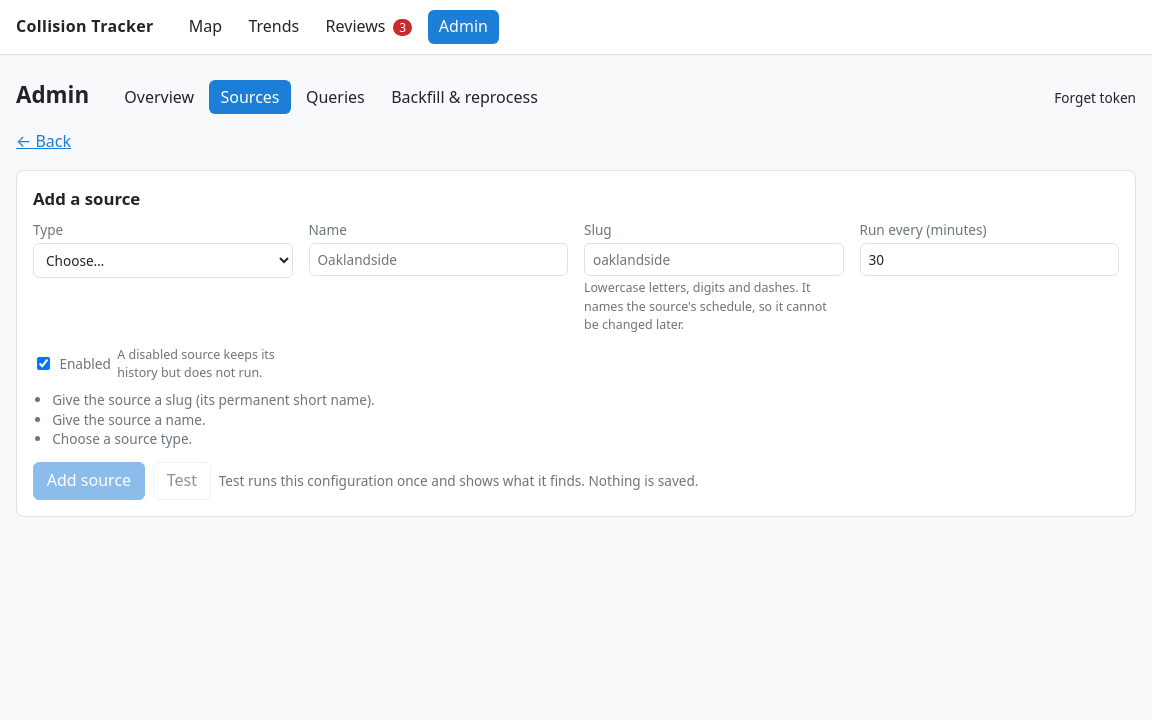
Test: Source form › creates the source and goes to its page
Select "RSS feed" in the dropdown labelled "Type". click: (163, 260)
box: [33, 243, 292, 278]
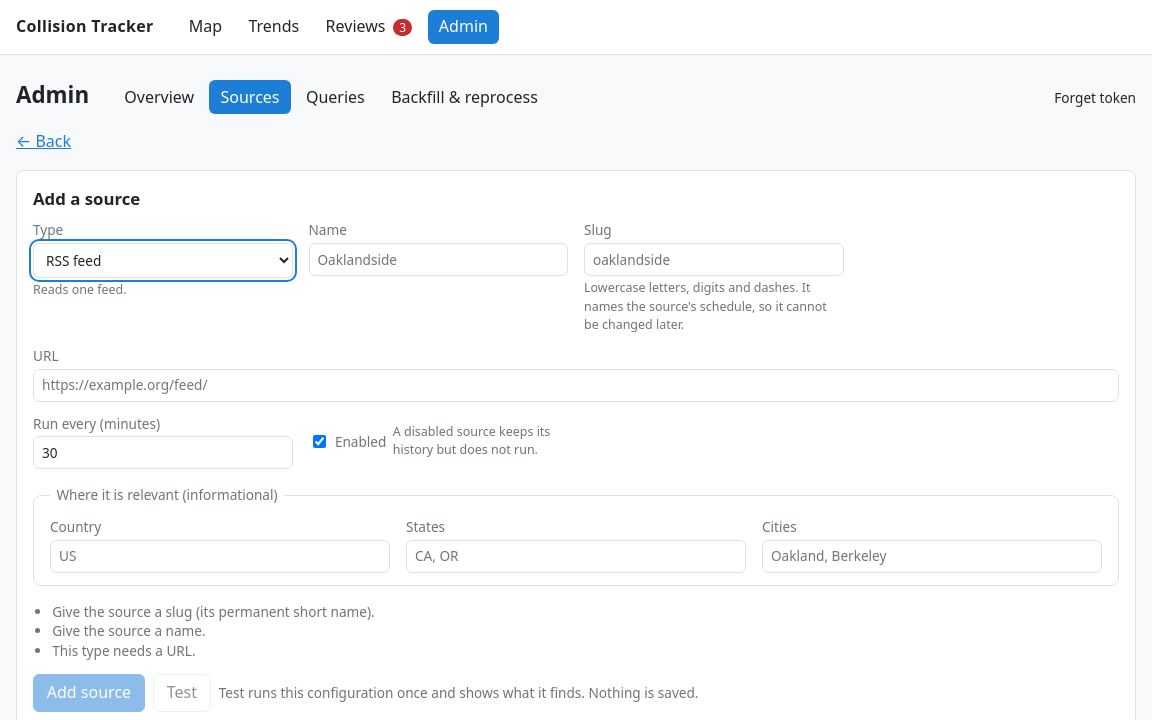
Type "Test Feed" into the field labelled "Name". click: (438, 260)
box: [308, 243, 568, 276]
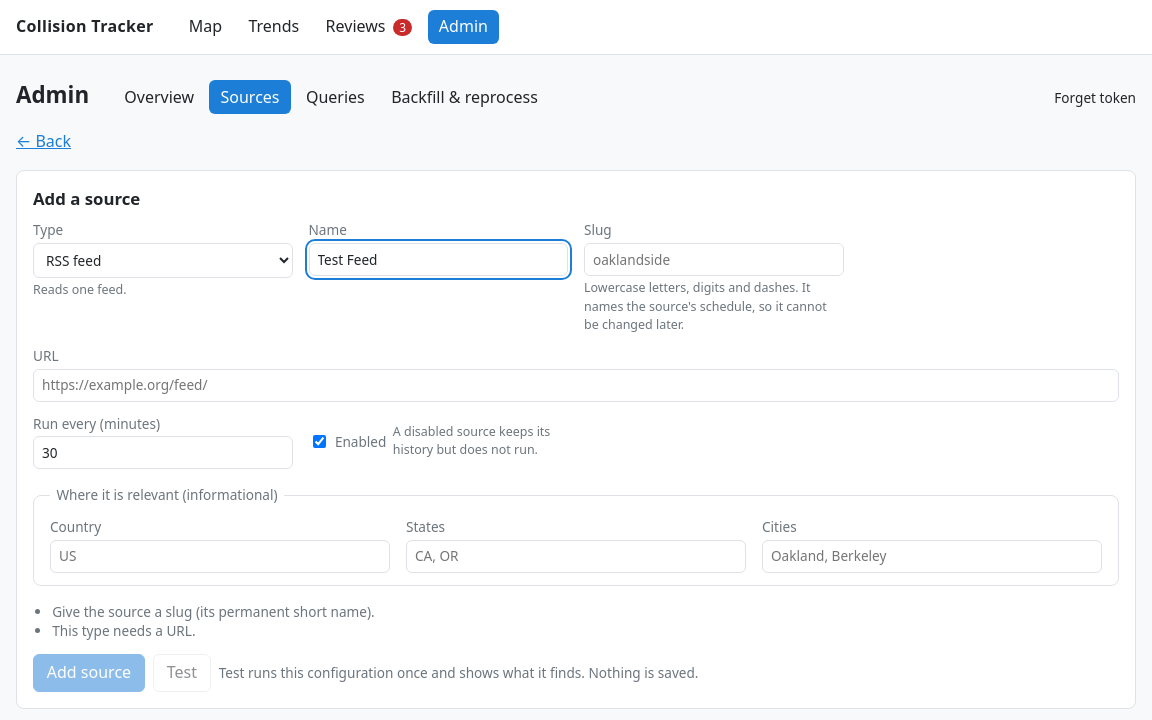
Type "test-feed" into the field labelled "Slug". click: (714, 260)
box: [584, 243, 844, 276]
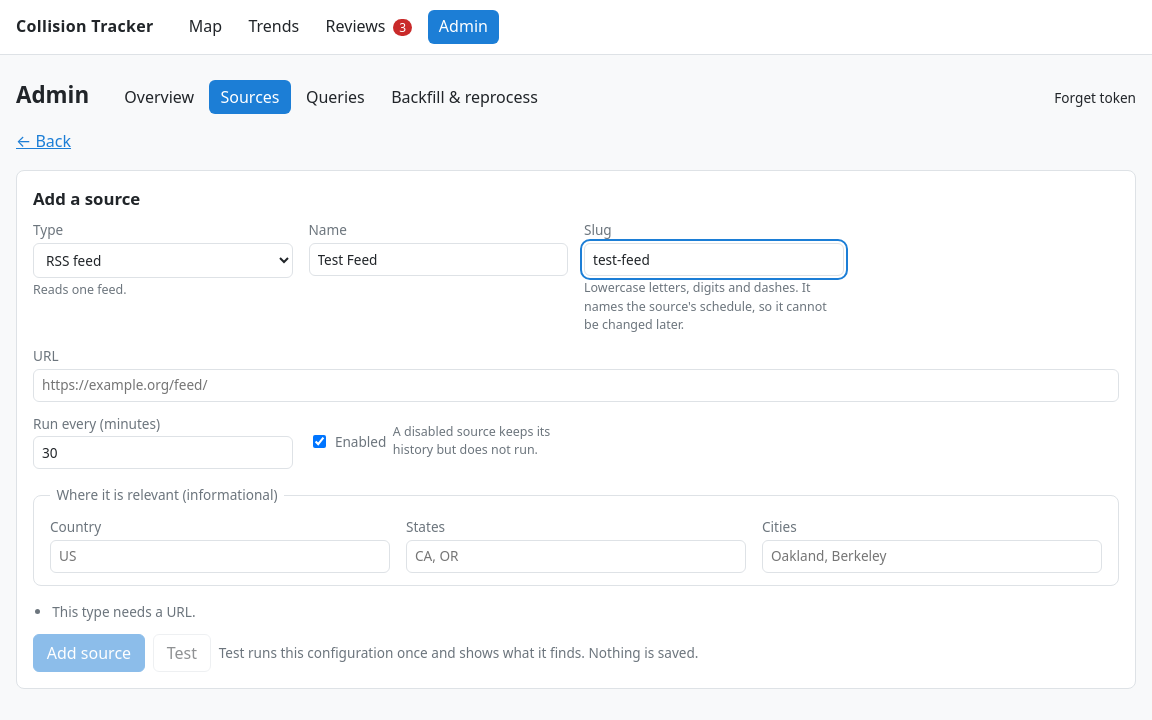
Type "https://t.test/feed" into the field labelled "URL". click: (576, 385)
box: [33, 369, 1119, 402]
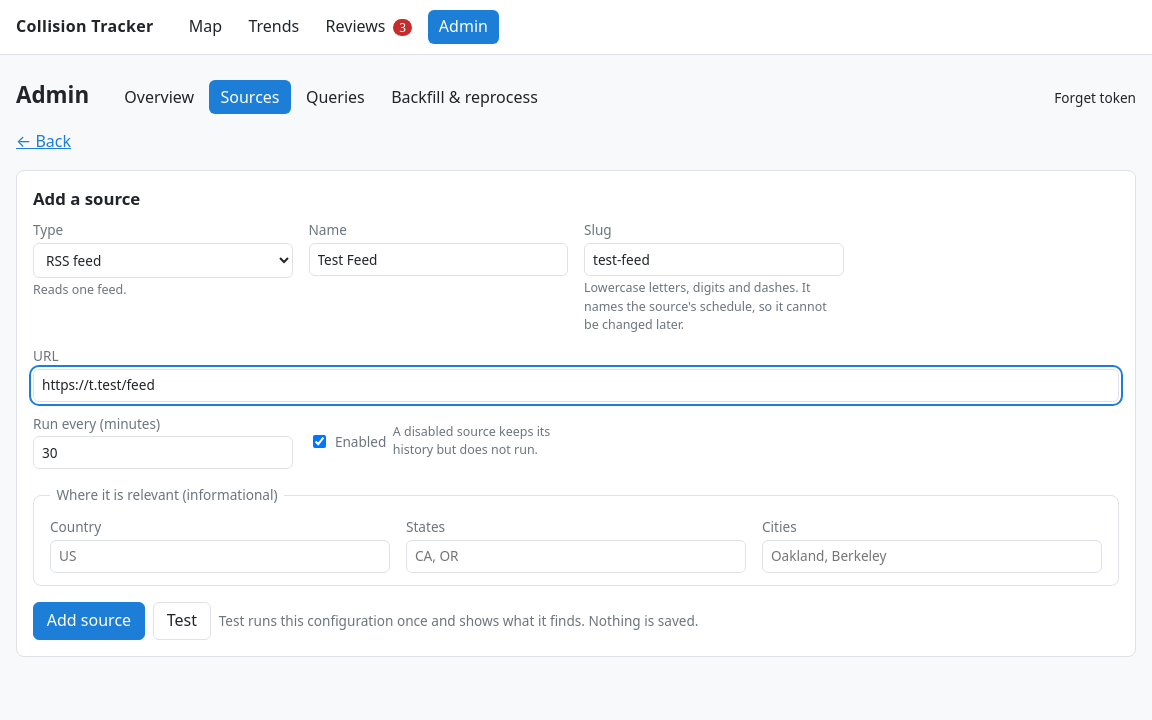
Click the button "Add source". click: (89, 621)
box: [33, 602, 145, 640]
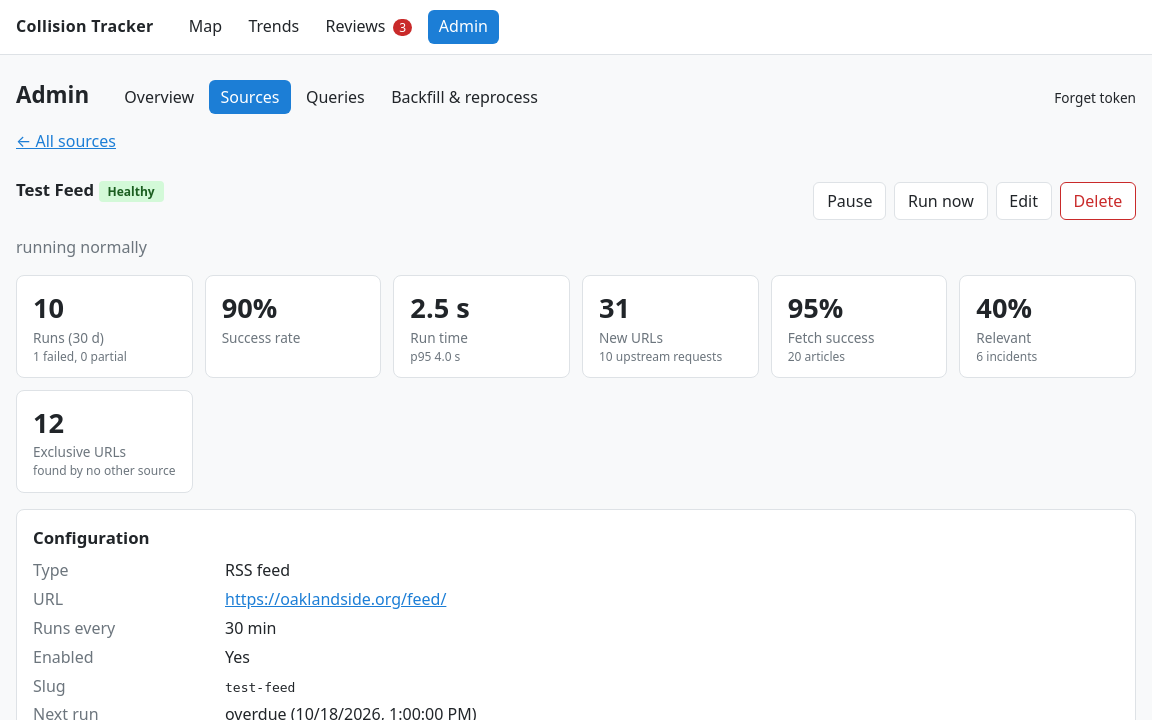
Check: the heading "Test Feed Healthy" is shown, box [16, 178, 164, 202]
